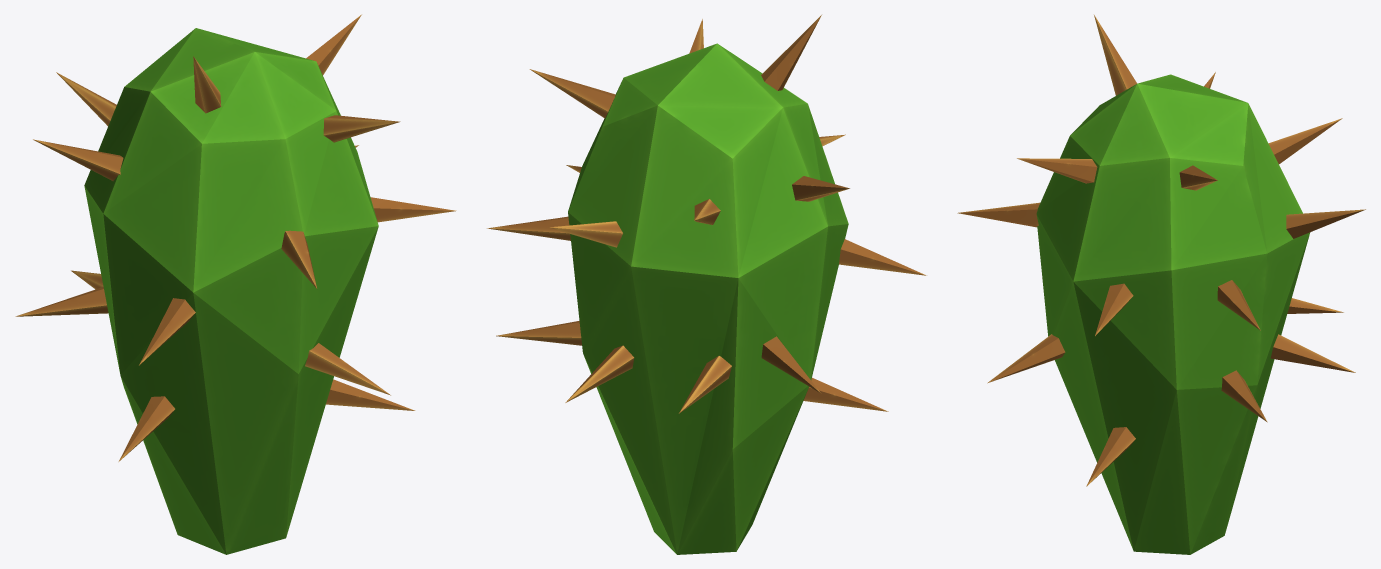
File: Cactus_34.fbx
The picture shows the model from 3 angles, left to right: view 1: azimuth 30°, elevation 25°; view 2: azimuth 150°, elevation 25°; view 3: azimuth 270°, elevation 25°; orthographic projection. The views are drawn at different scales.
Parts seen in each view (by area): view 1: Cactus_34; view 2: Cactus_34; view 3: Cactus_34.
Boxes of the visible parts, x1=… form: Cactus_34: x1=15, y1=14, x2=456, y2=554; Cactus_34: x1=487, y1=15, x2=926, y2=554; Cactus_34: x1=957, y1=15, x2=1365, y2=554.
Bounding box in the file's own units: 24.17 × 25.83 × 33.77.
Materials: 1 (1 with a texture image).
